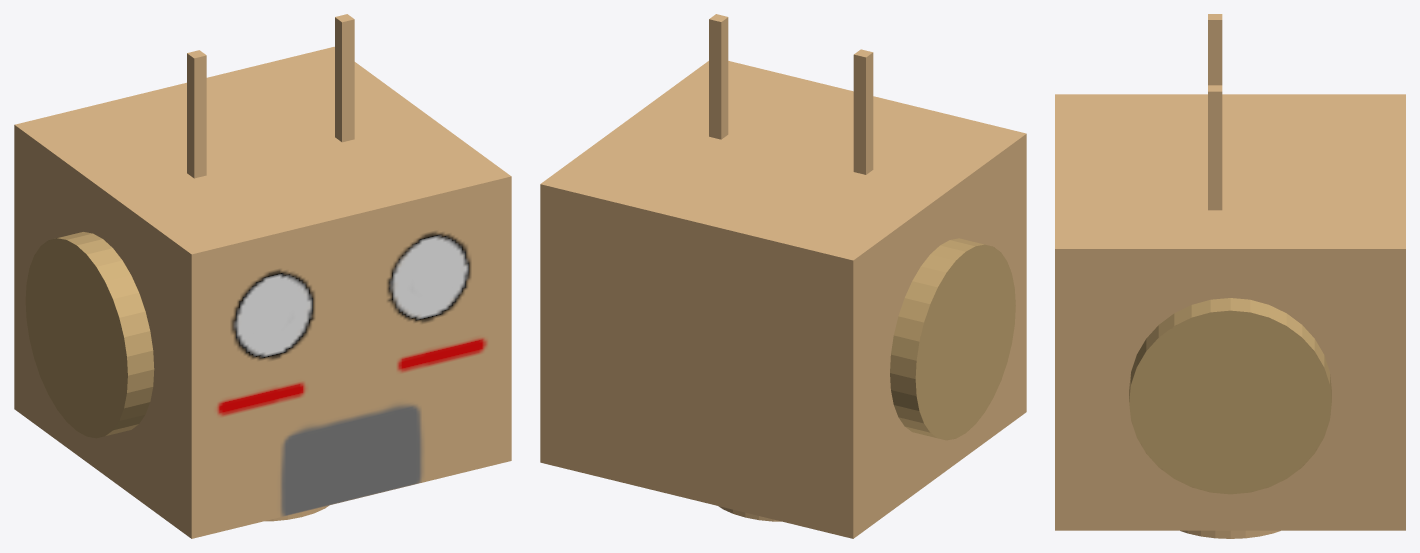
File: Robot_C.obj
3 renders of one model, left to right at view 1: azimuth 30°, elevation 25°; view 2: azimuth 150°, elevation 25°; view 3: azimuth 270°, elevation 25°, orthographic. The views are drawn at different scales.
Visible parts, largest first — view 1: Robot.C; view 2: Robot.C; view 3: Robot.C.
Boxes of the visible parts, left/top/right/bottom form: Robot.C: left=14, top=14, right=511, bottom=538; Robot.C: left=540, top=14, right=1026, bottom=538; Robot.C: left=1055, top=14, right=1405, bottom=538.
Size of the model in its own units: 0.8796 by 1.03 by 0.7249.
1 material, 1 textured.
